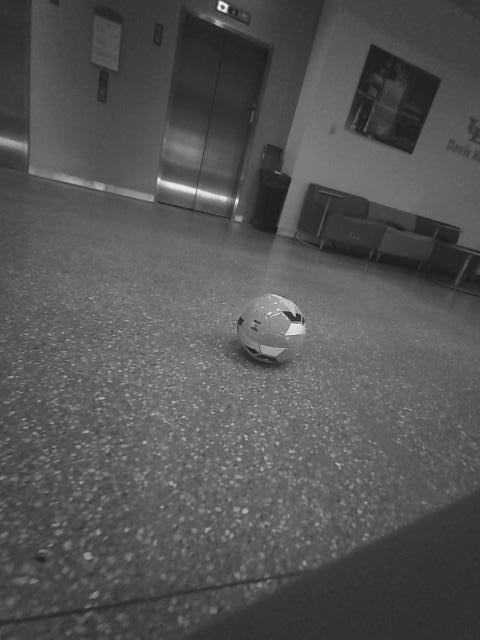ball: (72, 166, 205, 288)
